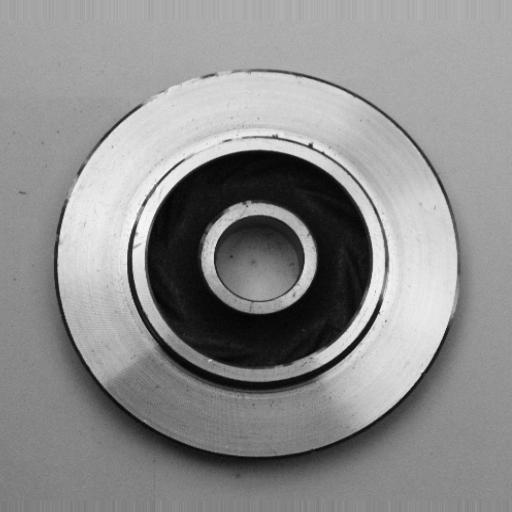crack: (290, 134, 349, 163)
scratch: (142, 70, 213, 116), (182, 131, 253, 163)
unpolished_casting: (55, 66, 466, 464)
